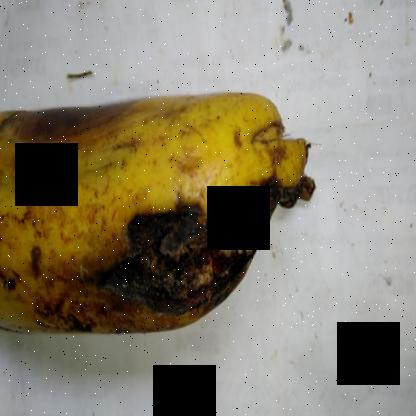rotten: (50, 128, 334, 336), (0, 62, 153, 178)
